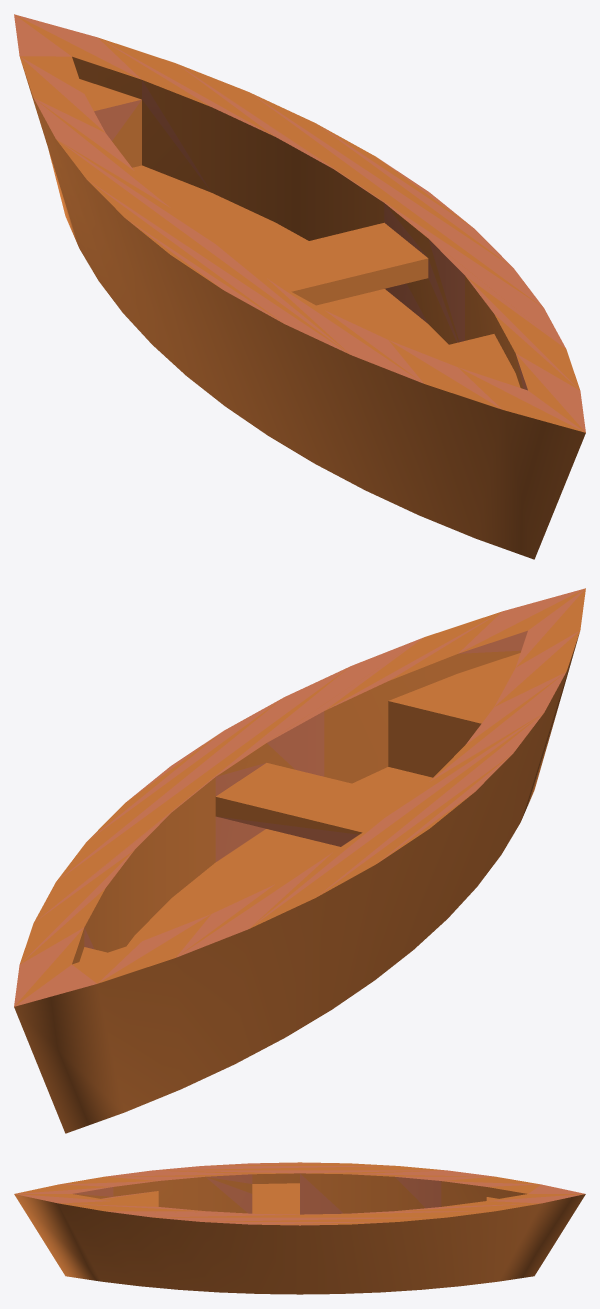
The model's file is gunboat.glb.
The picture shows the model from 3 angles, top to bottom: view 1: azimuth 30°, elevation 25°; view 2: azimuth 150°, elevation 25°; view 3: azimuth 270°, elevation 25°; orthographic projection. The views are drawn at different scales.
Bounding box in the file's own units: 3 × 1.83 × 11.5.
